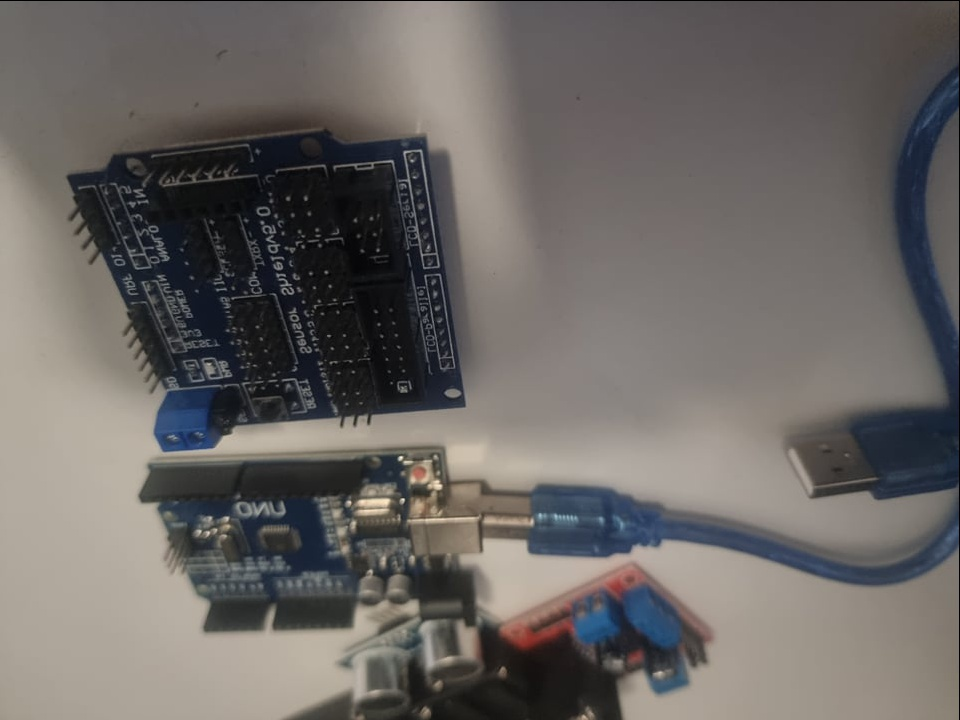5V EXPANSION: (64, 133, 466, 453)
MOTOR: (502, 563, 719, 718)
SENSOR: (327, 611, 491, 714)
UNO R3: (141, 445, 481, 639)
